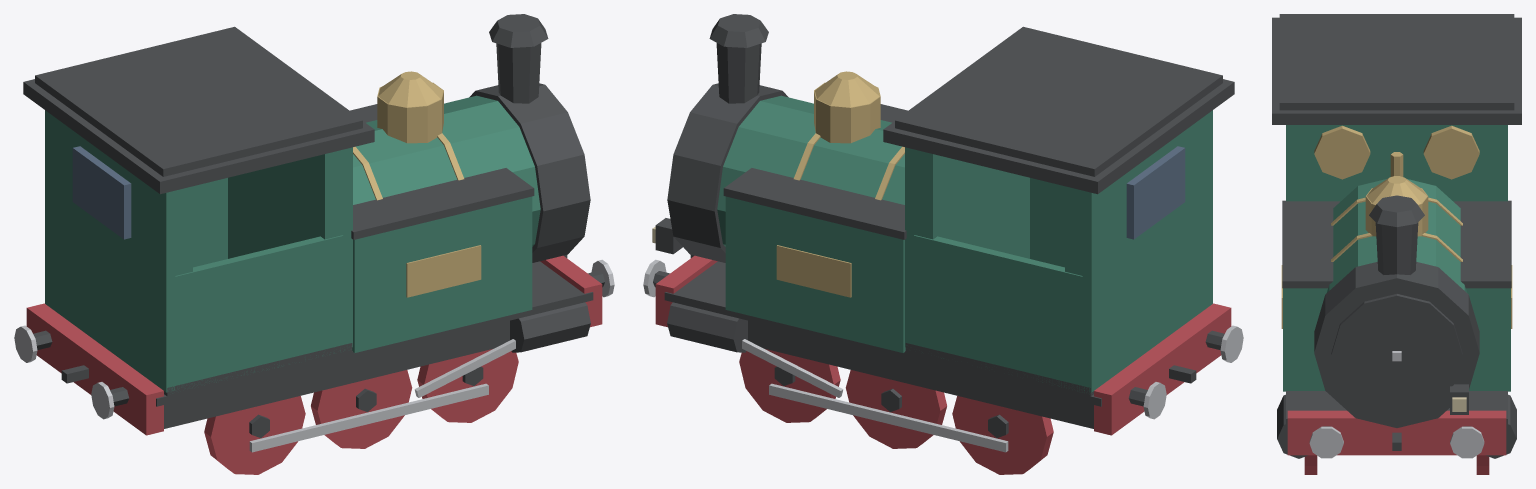
File: rail_locomotive.glb
3 renders of one model, left to right at view 1: azimuth 30°, elevation 25°; view 2: azimuth 150°, elevation 25°; view 3: azimuth 270°, elevation 25°, orthographic. The views are drawn at different scales.
Size of the model in its own units: 3.42 by 2.21 by 1.6.
